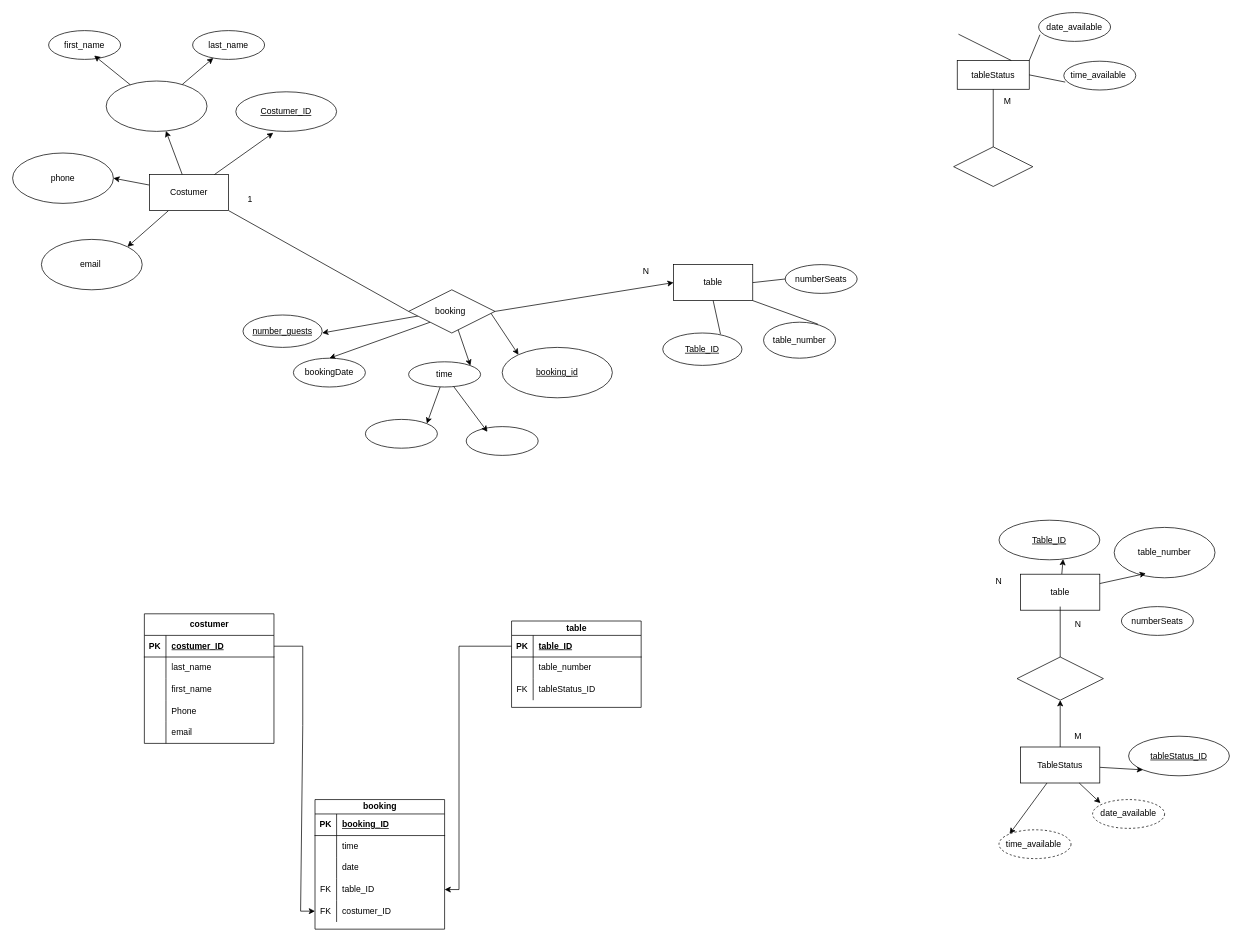
This 1242x942 diagram has some shape labels left out. Here are the shapes that lost their labels. From the top down, the centre of each, then its label:
At (156,105): "name".
At (993,166): "available".
At (401,433): "end_time".
At (501,440): "start_time".
At (1059,678): "Has".
